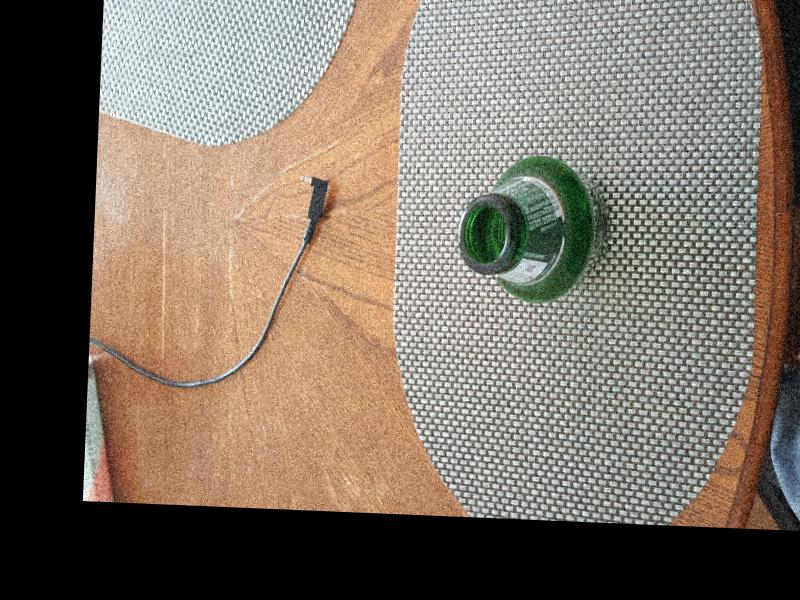Beer: (458, 159, 610, 297)
